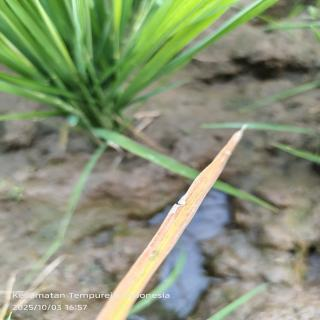Hawar-Daun: (113, 135, 236, 291)
